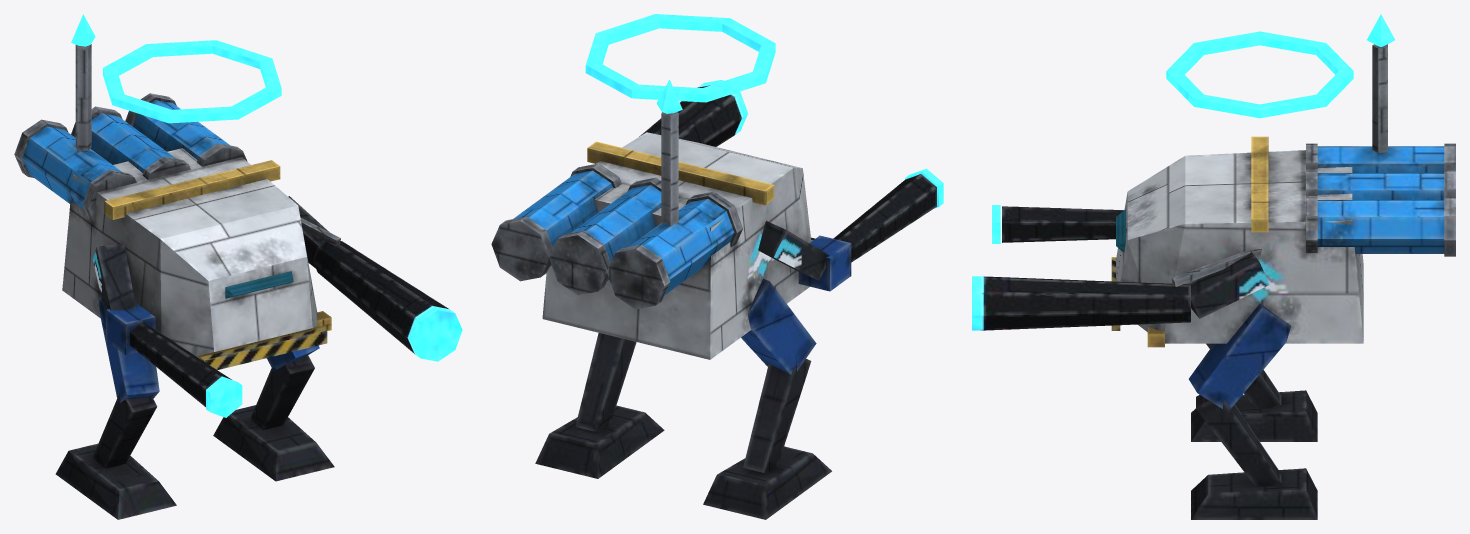
The model's file is u_pyro4_w.glb.
The picture shows the model from 3 angles, left to right: view 1: azimuth 30°, elevation 25°; view 2: azimuth 150°, elevation 25°; view 3: azimuth 270°, elevation 25°; orthographic projection. The views are drawn at different scales.
Visible parts, largest first — view 1: u_pyro4_w; view 2: u_pyro4_w; view 3: u_pyro4_w.
Part boxes in pixels (left/top/right/bottom): u_pyro4_w: left=14, top=14, right=462, bottom=519; u_pyro4_w: left=491, top=14, right=943, bottom=519; u_pyro4_w: left=972, top=14, right=1455, bottom=519.
Size of the model in its own units: 1.26 by 2.1 by 2.15.
Materials: 1 (1 with a texture image).
